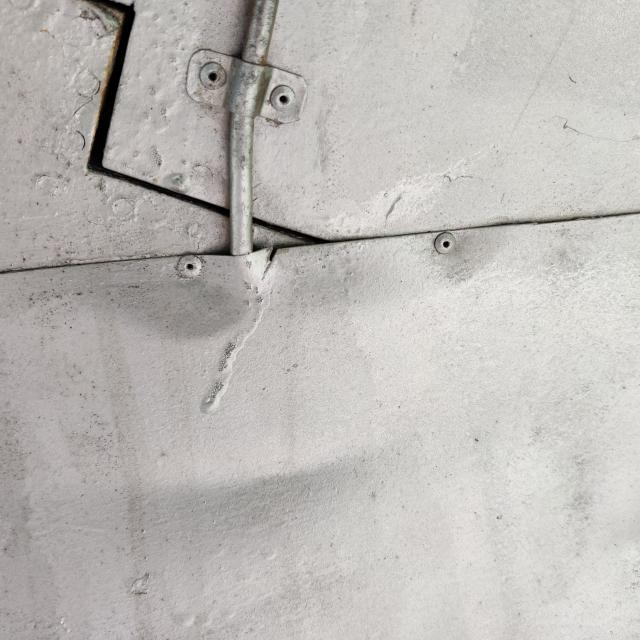crack: (252, 228, 296, 284)
